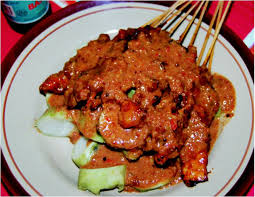sate: (46, 22, 240, 187)
